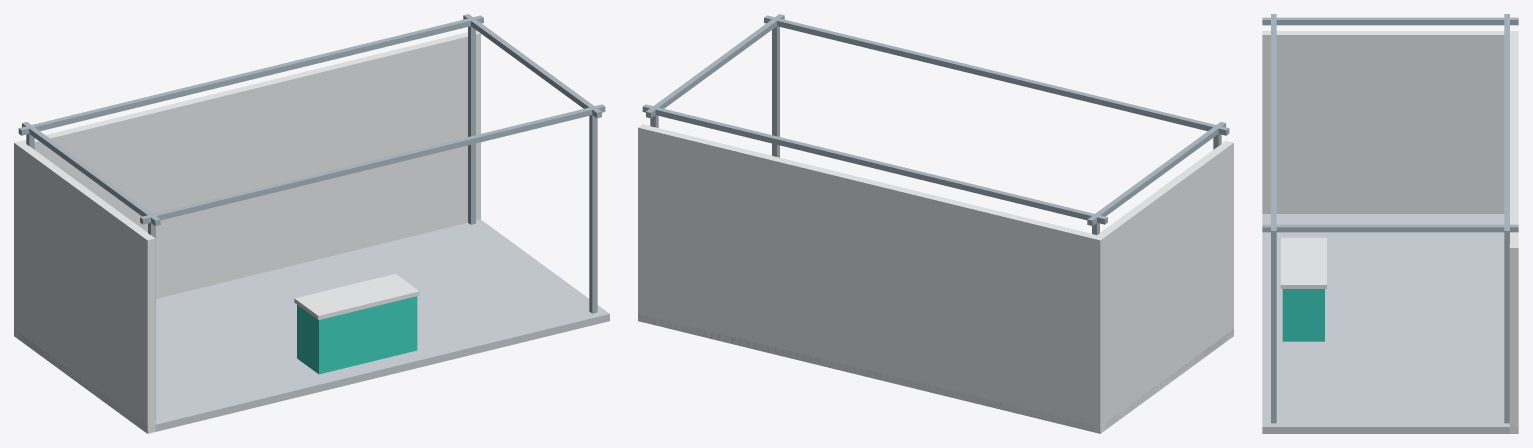
3 renders of one model, left to right at view 1: azimuth 30°, elevation 25°; view 2: azimuth 150°, elevation 25°; view 3: azimuth 270°, elevation 25°, orthographic. The views are drawn at different scales.
Parts seen in each view (by area): view 1: Exhibition Booth Concept; view 2: Exhibition Booth Concept; view 3: Exhibition Booth Concept.
Boxes of the visible parts, <box> form: Exhibition Booth Concept: <box>14,14,609,433</box>; Exhibition Booth Concept: <box>638,14,1233,433</box>; Exhibition Booth Concept: <box>1262,14,1518,433</box>.
Bounding box in the file's own units: 8 × 3.49 × 4.
